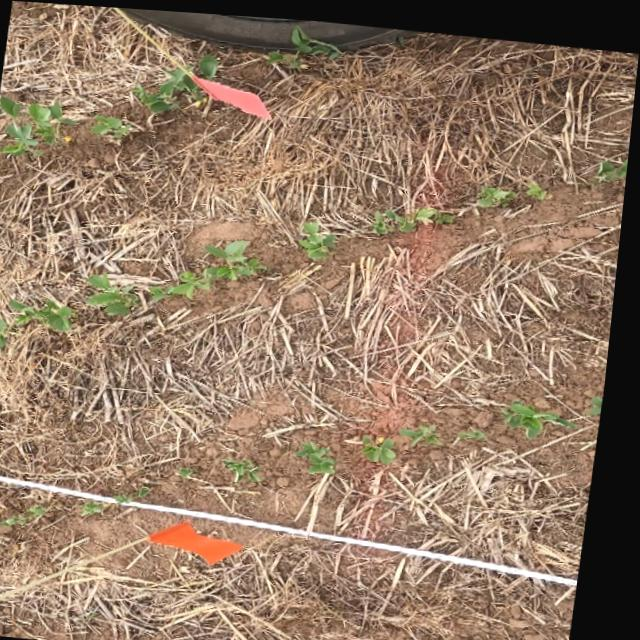soy_plant: (153, 236, 267, 296), (0, 96, 72, 153), (268, 23, 340, 64), (138, 65, 202, 111), (509, 393, 579, 429), (92, 271, 147, 312), (376, 200, 458, 227), (16, 297, 77, 328), (302, 216, 340, 256), (306, 438, 342, 468), (371, 428, 403, 458), (93, 113, 132, 136), (10, 504, 54, 524), (479, 178, 519, 200), (597, 151, 630, 173), (406, 419, 446, 437), (232, 455, 268, 475), (125, 485, 156, 500), (198, 52, 216, 77), (0, 316, 13, 346), (527, 174, 549, 191), (466, 422, 493, 431), (92, 501, 112, 510), (188, 464, 203, 474)
